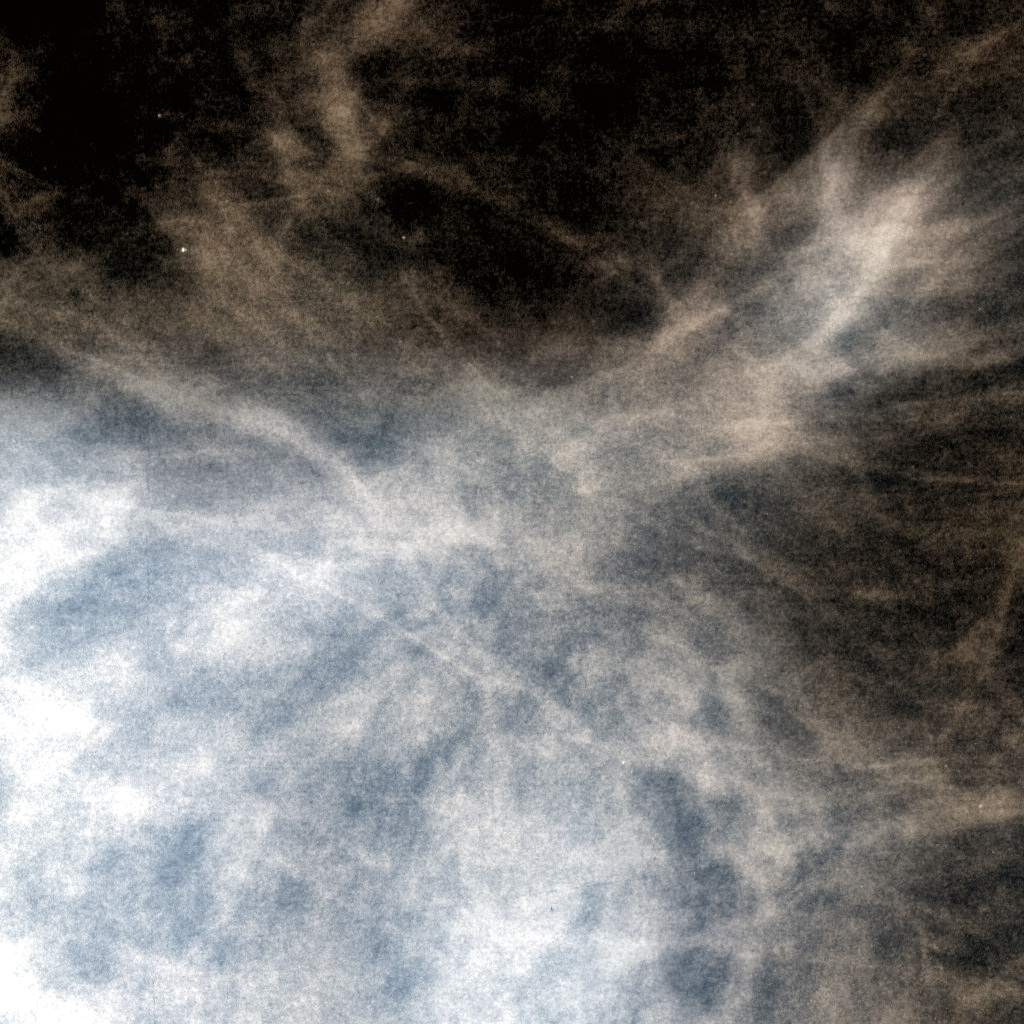tumor: (175, 283, 849, 741)
